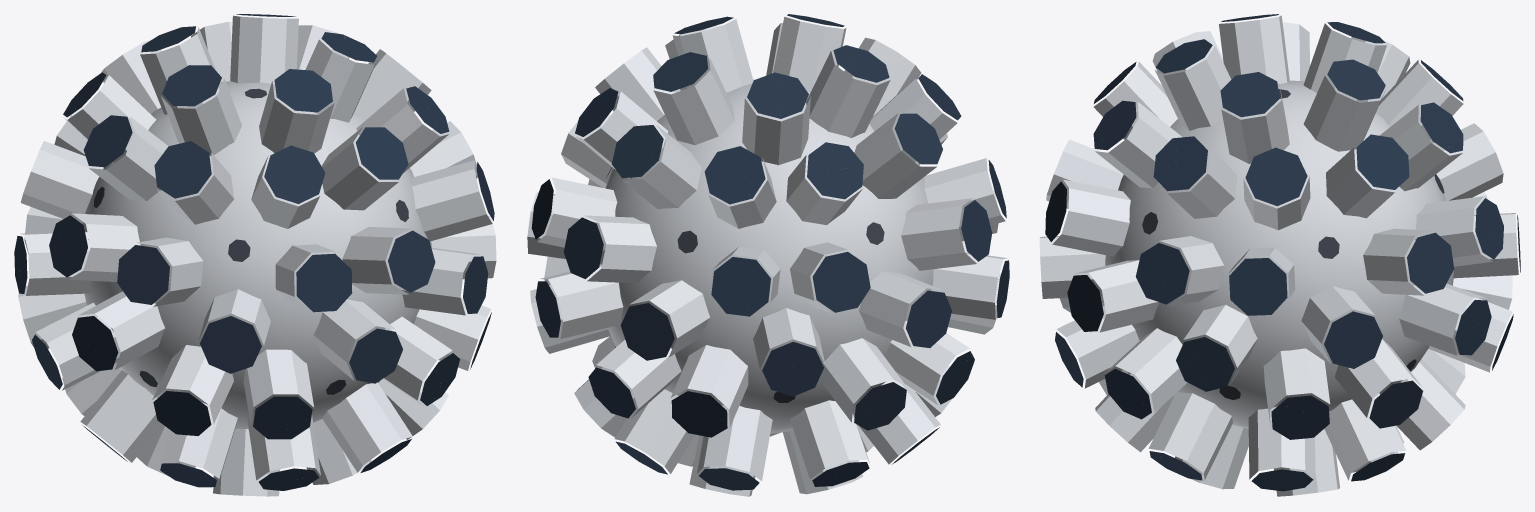
File: westpac.glb
The picture shows the model from 3 angles, left to right: view 1: azimuth 30°, elevation 25°; view 2: azimuth 150°, elevation 25°; view 3: azimuth 270°, elevation 25°; orthographic projection.
Visible parts, largest first — view 1: body, solar-panel; view 2: body, solar-panel; view 3: body, solar-panel.
Part boxes in pixels (x1=…): body: x1=18, y1=15, x2=496, y2=496; solar-panel: x1=14, y1=14, x2=494, y2=490; body: x1=527, y1=16, x2=1007, y2=496; solar-panel: x1=531, y1=14, x2=1009, y2=490; body: x1=1039, y1=15, x2=1518, y2=496; solar-panel: x1=1045, y1=14, x2=1520, y2=491.
Bounding box in the file's own units: 0.2441 × 0.2391 × 0.248.
